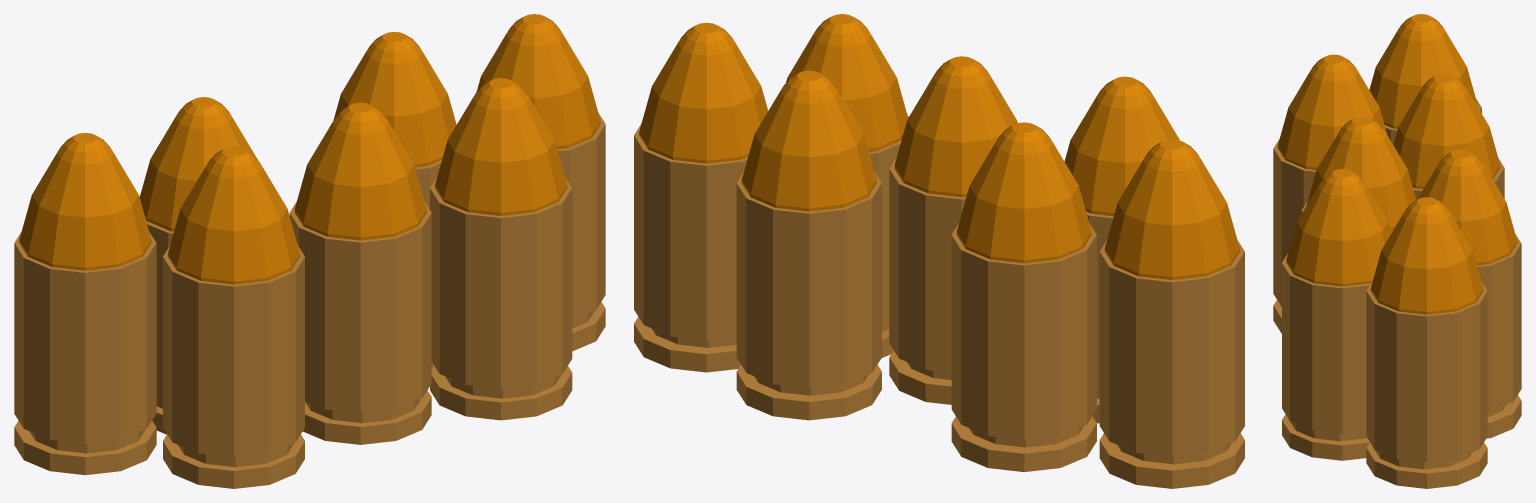
Rendered from ammo.gltf.
3 renders of one model, left to right at view 1: azimuth 30°, elevation 25°; view 2: azimuth 150°, elevation 25°; view 3: azimuth 270°, elevation 25°, orthographic. The views are drawn at different scales.
Visible parts, largest first — view 1: node_MeshObject248617344-PolyPaper19; view 2: node_MeshObject248617344-PolyPaper19; view 3: node_MeshObject248617344-PolyPaper19.
Boxes of the visible parts, x1,y1,x2,y2 form: node_MeshObject248617344-PolyPaper19: (14,14,605,488); node_MeshObject248617344-PolyPaper19: (634,14,1244,488); node_MeshObject248617344-PolyPaper19: (1273,14,1521,488).
Size of the model in its own units: 2.01 by 1.07 by 0.88.
